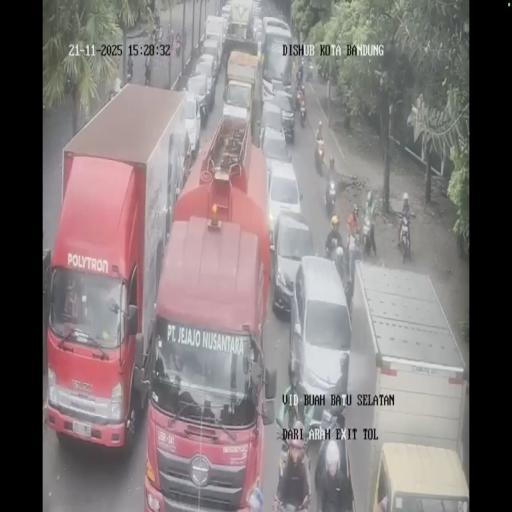car: (270, 208, 315, 318), (185, 71, 210, 130), (270, 88, 296, 144), (200, 37, 220, 75), (252, 15, 264, 49), (220, 4, 232, 32)
motorcycle: (396, 210, 414, 264), (327, 239, 345, 277), (361, 213, 375, 257), (324, 181, 337, 219), (314, 140, 325, 174), (298, 97, 306, 127), (295, 73, 305, 94), (144, 57, 151, 85), (154, 26, 163, 44), (126, 62, 133, 82), (181, 28, 187, 50), (175, 38, 181, 56)
truck: (46, 82, 194, 454), (223, 50, 259, 135), (260, 17, 294, 98)
